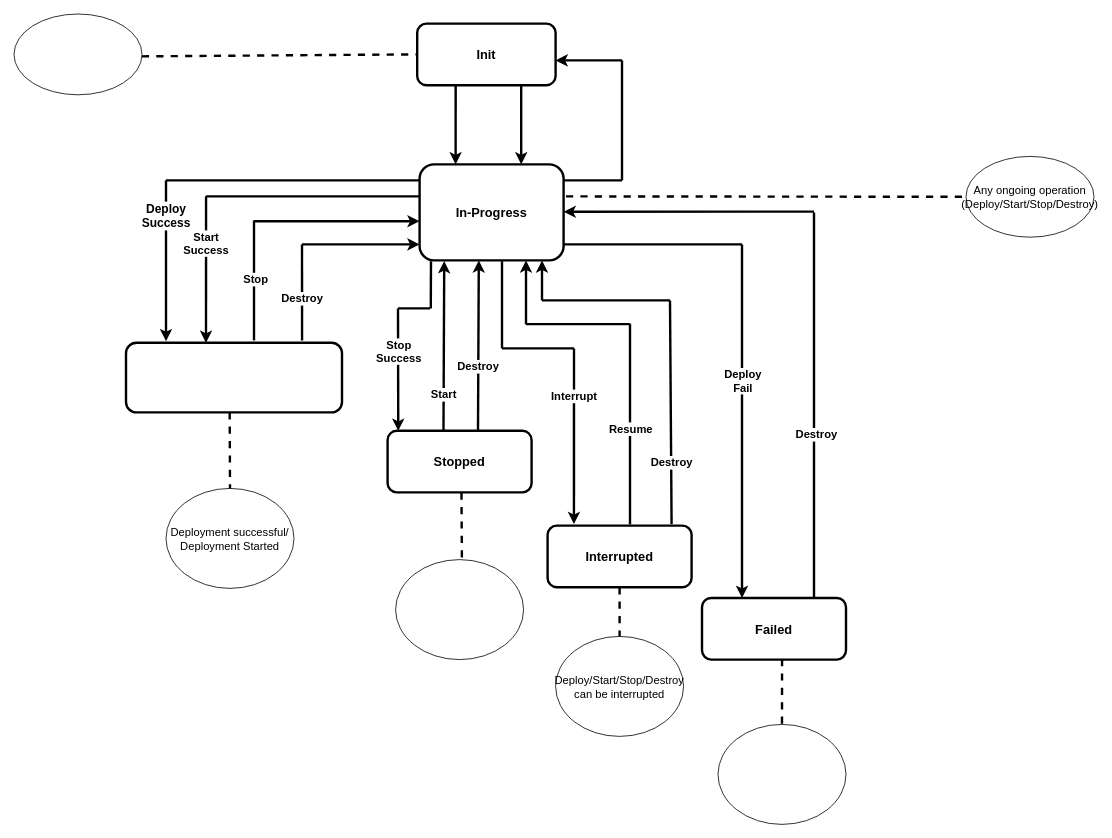
The diagram is 1112 pixels wide and 838 high, and some of its shapes have lost their labels. Each missing label, with the box of its shape:
Deployment Failed: (717, 724, 846, 824)
Deployment stopped: (395, 559, 524, 660)
Idle and Ready for Deployment: (13, 13, 142, 95)
Running: (124, 341, 343, 413)
